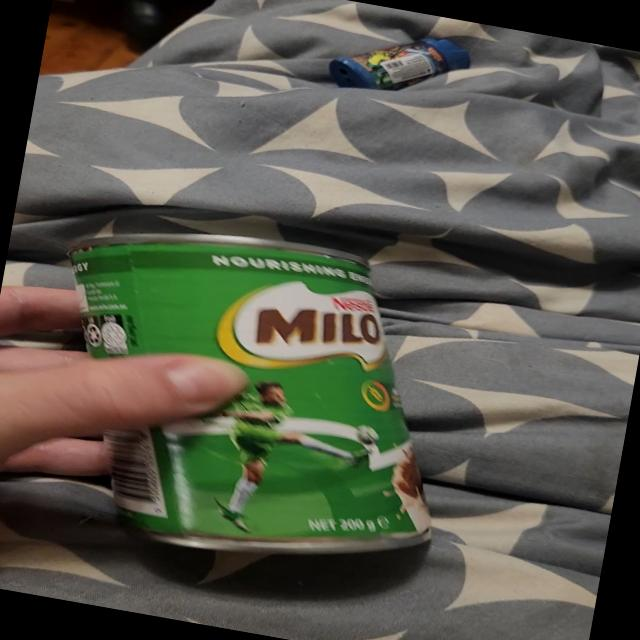nestle_milo_tin: (69, 234, 429, 553)
